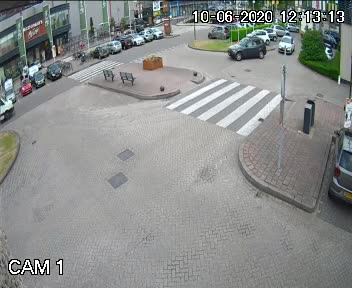car: (222, 35, 265, 60), (275, 34, 294, 55)
